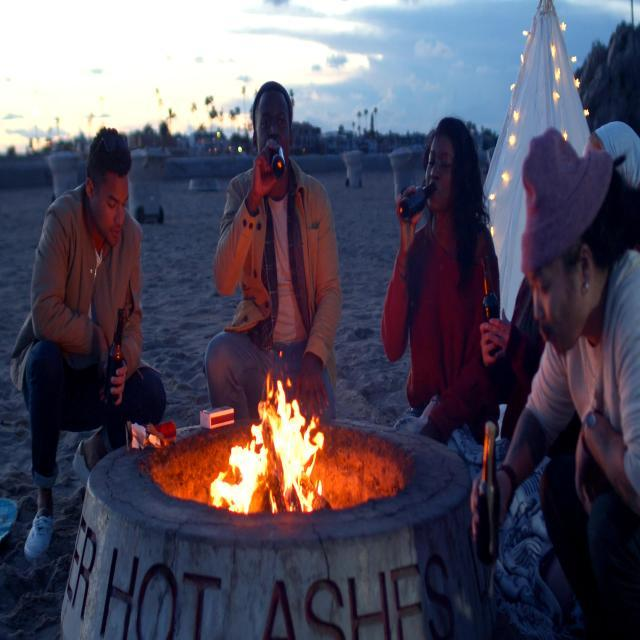Fire: (208, 368, 325, 514)
